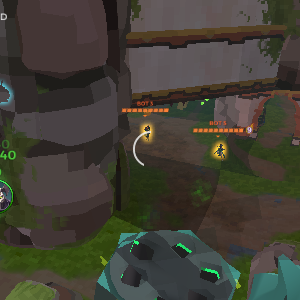model: (212, 141, 227, 160), (139, 123, 153, 143)
